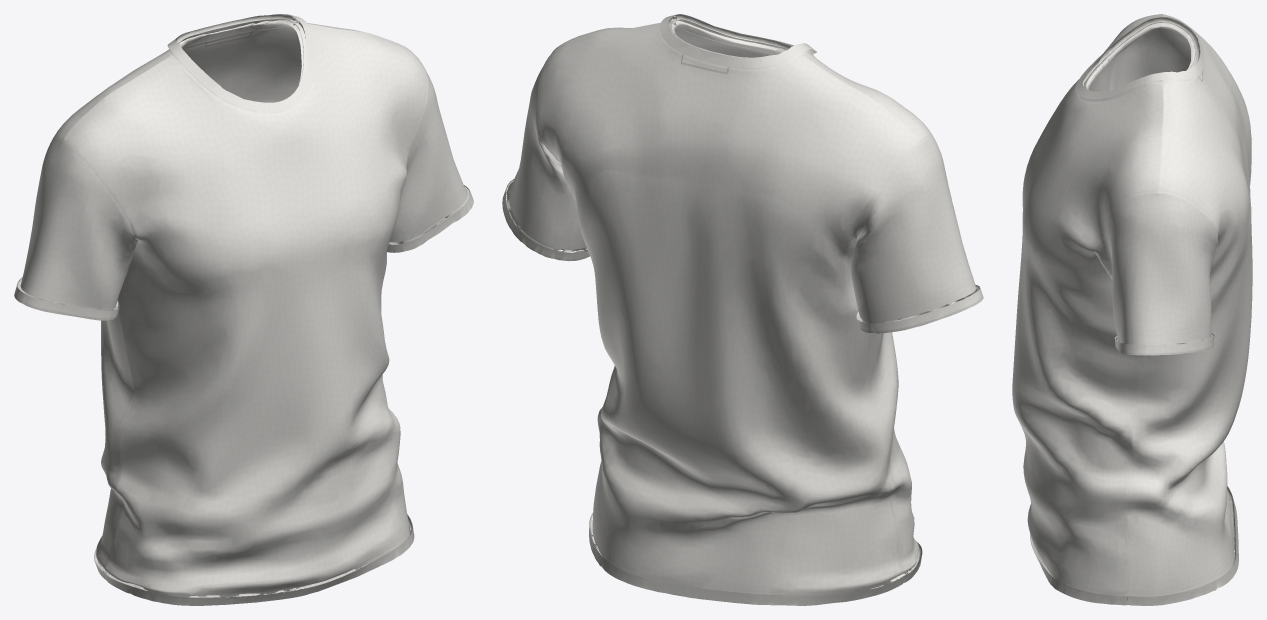
Rendered from tshirt-white-3d.glb.
3 views of the same model, side by side, from view 1: azimuth 30°, elevation 25°; view 2: azimuth 150°, elevation 25°; view 3: azimuth 270°, elevation 25° (orthographic). The views are drawn at different scales.
Parts seen in each view (by area): view 1: HeavyweightTee3D; view 2: HeavyweightTee3D; view 3: HeavyweightTee3D.
Boxes of the visible parts, left/top/right/bottom form: HeavyweightTee3D: left=14, top=14, right=473, bottom=605; HeavyweightTee3D: left=502, top=14, right=983, bottom=605; HeavyweightTee3D: left=1012, top=14, right=1252, bottom=605.
Bounding box in the file's own units: 0.5641 × 0.6181 × 0.269.
Materials: 1 (1 with a texture image).
